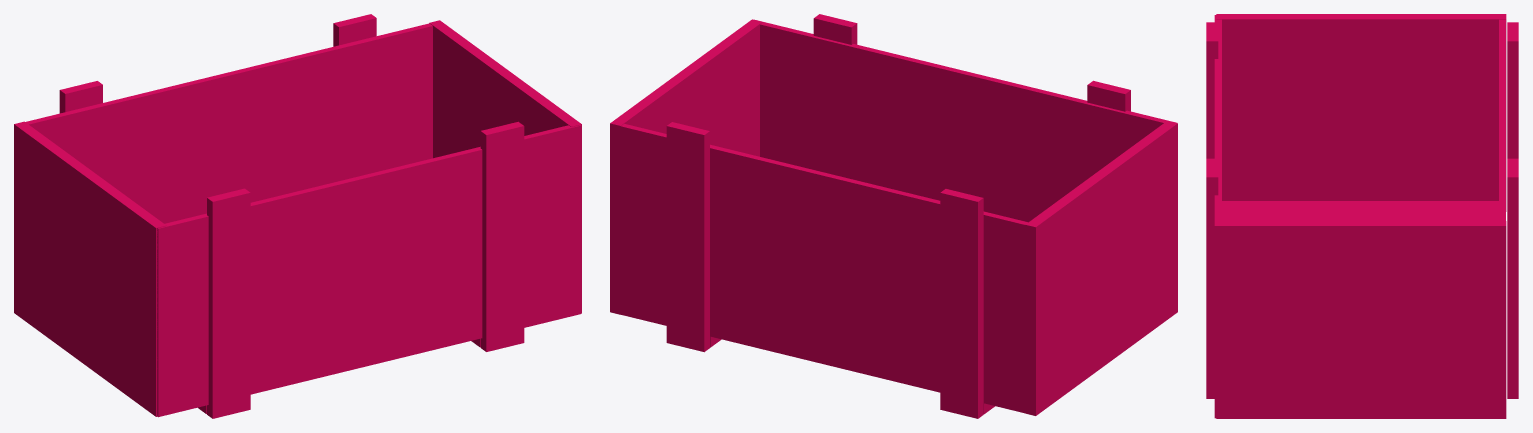
The model's file is Woodbox_03_Lod0.fbx.
3 views of the same model, side by side, from view 1: azimuth 30°, elevation 25°; view 2: azimuth 150°, elevation 25°; view 3: azimuth 270°, elevation 25° (orthographic). The views are drawn at different scales.
Parts seen in each view (by area): view 1: Woodbox_03_Lod0; view 2: Woodbox_03_Lod0; view 3: Woodbox_03_Lod0.
Boxes of the visible parts, bbox=[...] form: Woodbox_03_Lod0: bbox=[14, 14, 581, 418]; Woodbox_03_Lod0: bbox=[610, 14, 1177, 418]; Woodbox_03_Lod0: bbox=[1206, 14, 1518, 418].
Bounding box in the file's own units: 137 × 66.83 × 85.38.
